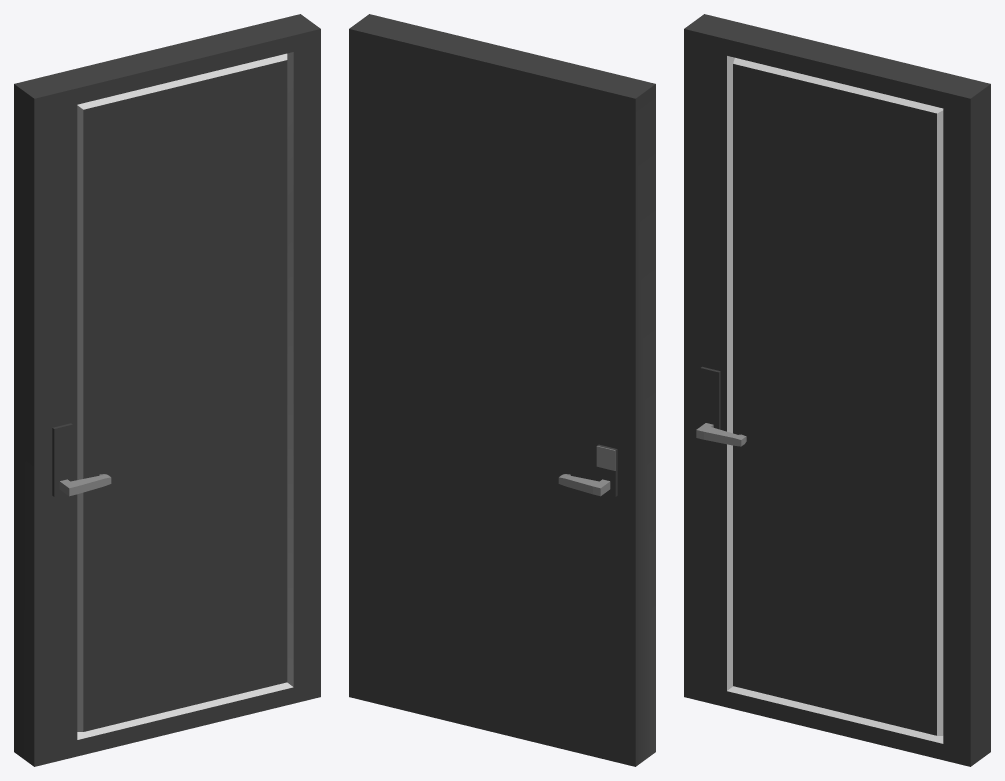
File: House_Front_Door.fbx
3 views of the same model, side by side, from view 1: azimuth 30°, elevation 25°; view 2: azimuth 150°, elevation 25°; view 3: azimuth 330°, elevation 25° (orthographic).
Parts seen in each view (by area): view 1: Door_02; view 2: Door_02; view 3: Door_02.
Part boxes in pixels (x1,y1,x2,y2): Door_02: (14, 14, 320, 766); Door_02: (349, 14, 655, 766); Door_02: (684, 14, 990, 766).
Size of the model in its own units: 91.51 by 204 by 23.8.
